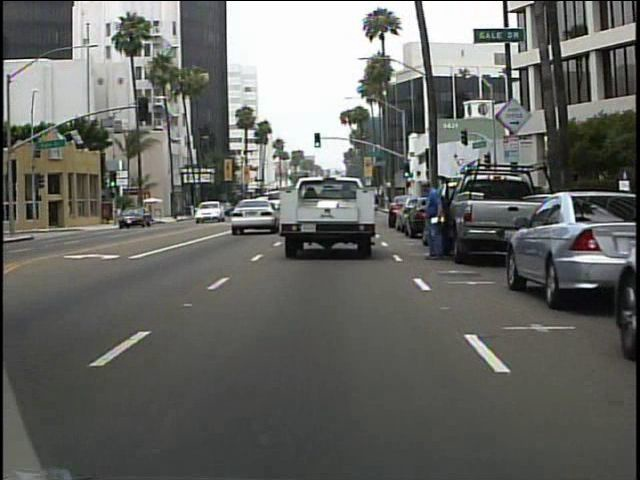person: (415, 177, 453, 265)
